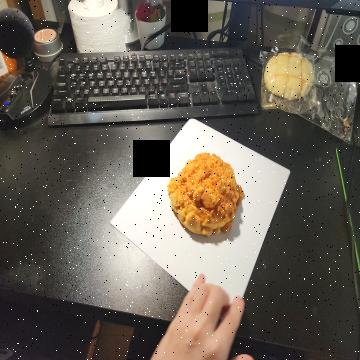soboru_bread: (167, 150, 243, 238)
